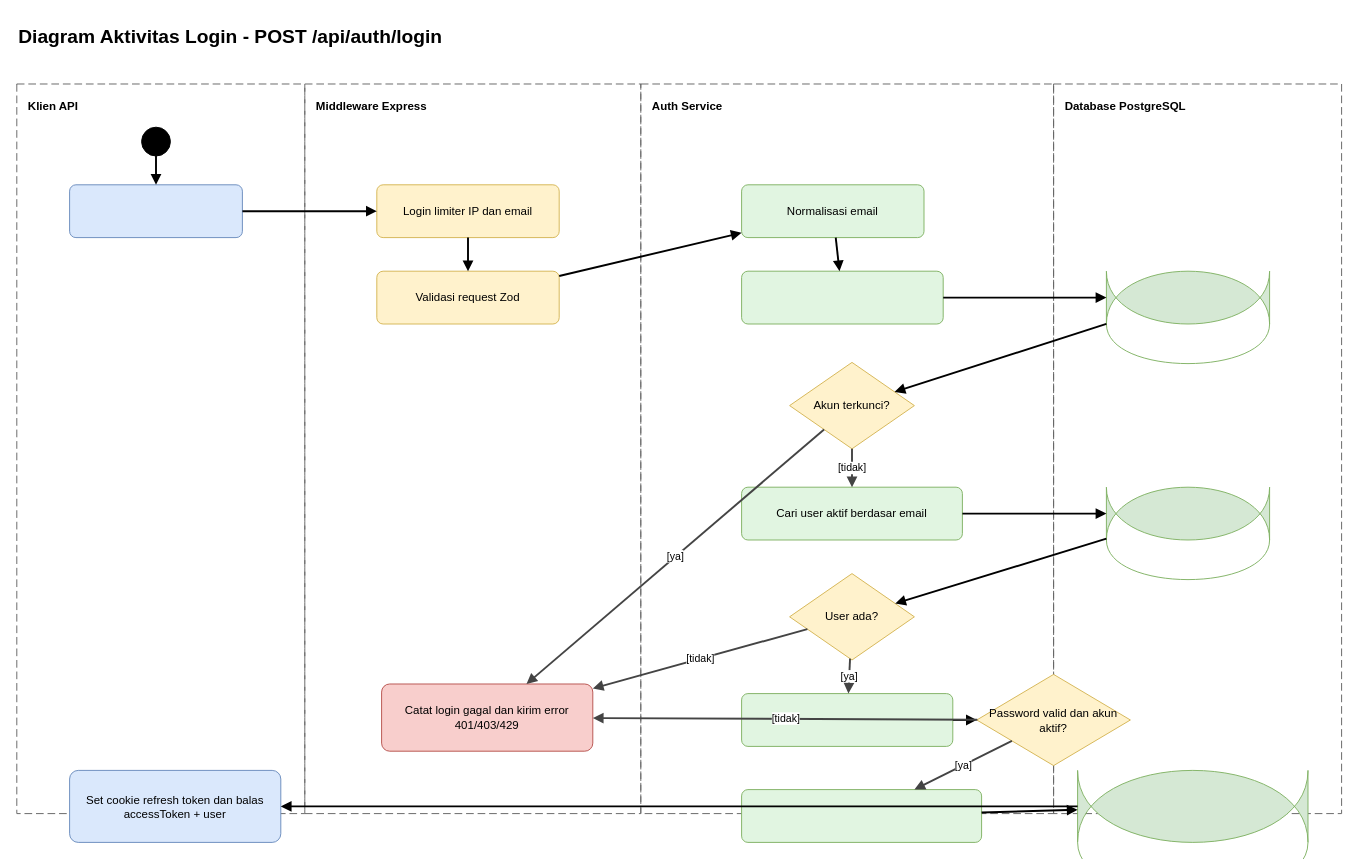
Image size: 1358x859. Some labels were removed from this diagram. The shapes that lost their labels are listed below. From the top down, each one's centre as x and y in pixels, then its label:
At [155,211]: "Kirim email dan password".
At [842,297]: "Cek lock window 15 menit".
At [1187,297]: "Baca login_attempts".
At [1187,513]: "Baca users".
At [847,719]: "Bandingkan password bcrypt".
At [861,815]: "Buat access token JWT dan refresh token".
At [1192,805]: "Simpan login_attempt success, user_session, audit LOGIN".
